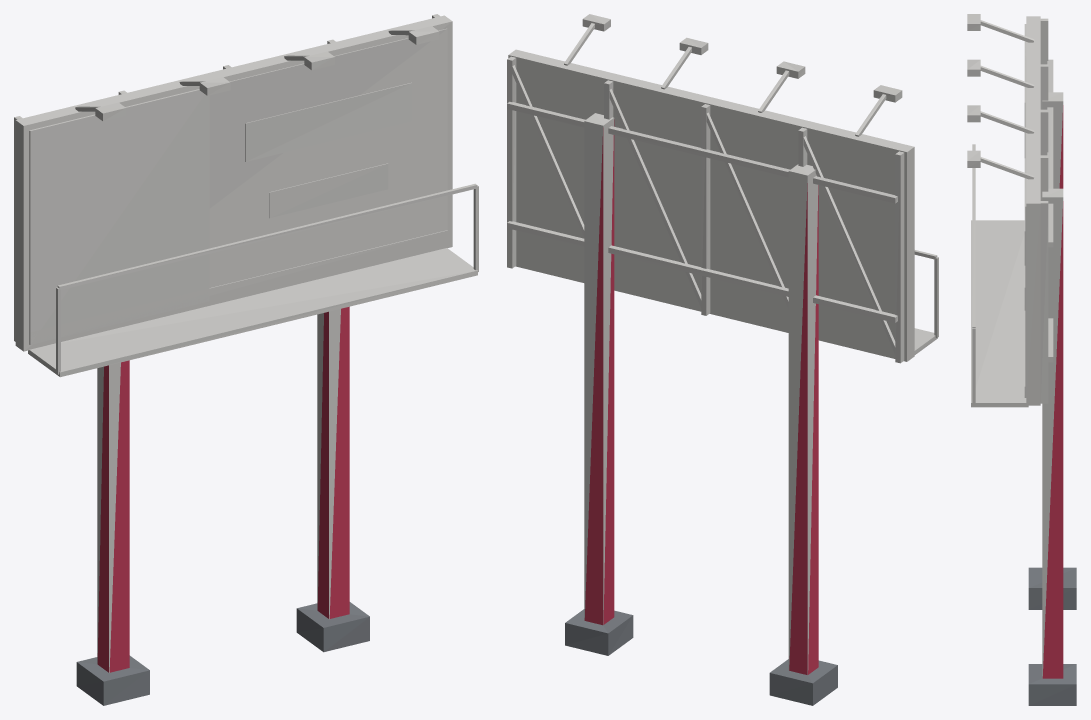
File: billboard-00.glb
The picture shows the model from 3 angles, left to right: view 1: azimuth 30°, elevation 25°; view 2: azimuth 150°, elevation 25°; view 3: azimuth 270°, elevation 25°; orthographic projection. The views are drawn at different scales.
Parts seen in each view (by area): view 1: billboard_00; view 2: billboard_00; view 3: billboard_00.
Boxes of the visible parts, x1,y1,x2,y2 form: billboard_00: [14, 14, 478, 705]; billboard_00: [507, 14, 938, 705]; billboard_00: [967, 14, 1076, 705].
Bounding box in the file's own units: 4.61 × 6.43 × 1.14.
